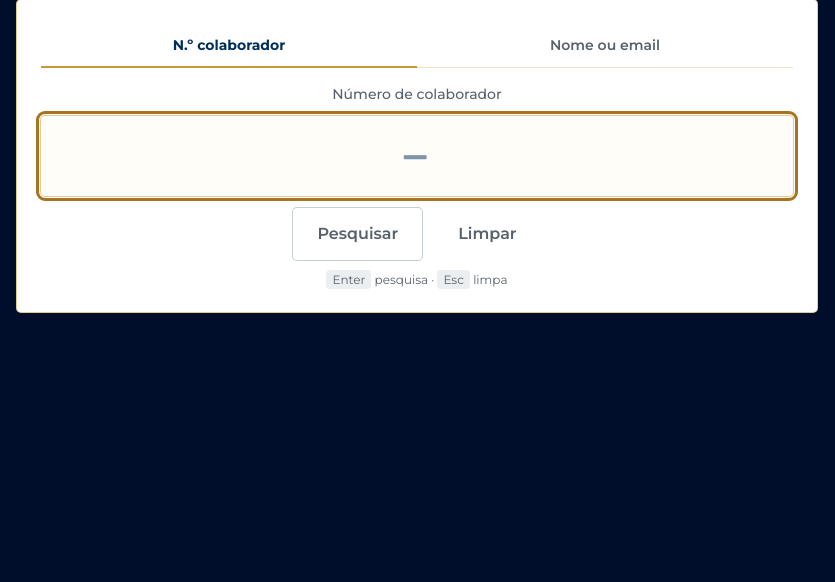
ecrã de distribuição › um nome pesquisado cai no campo Nome
The width and height of the screenshot is (835, 582).
Click the tab "Nome ou email" at point(605, 46), box [417,24,793,68]
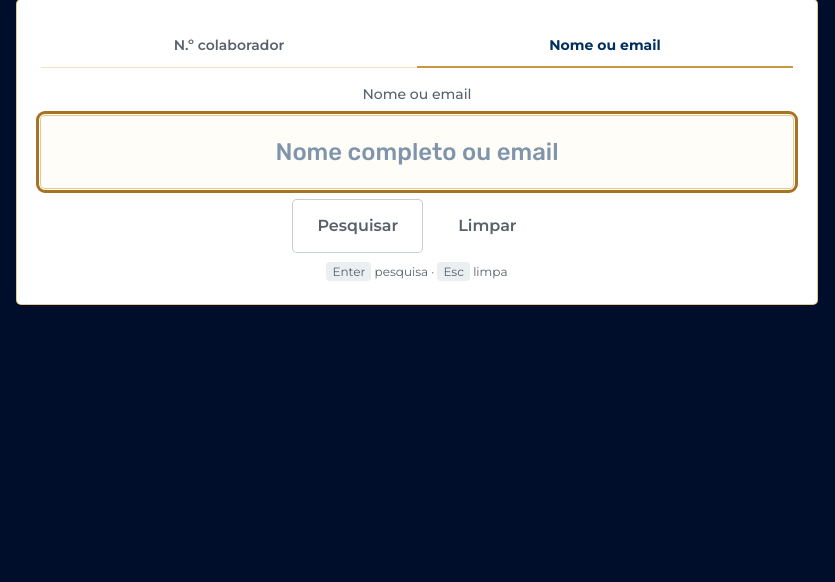
Type keys "Daniela Espanhol{Enter}"
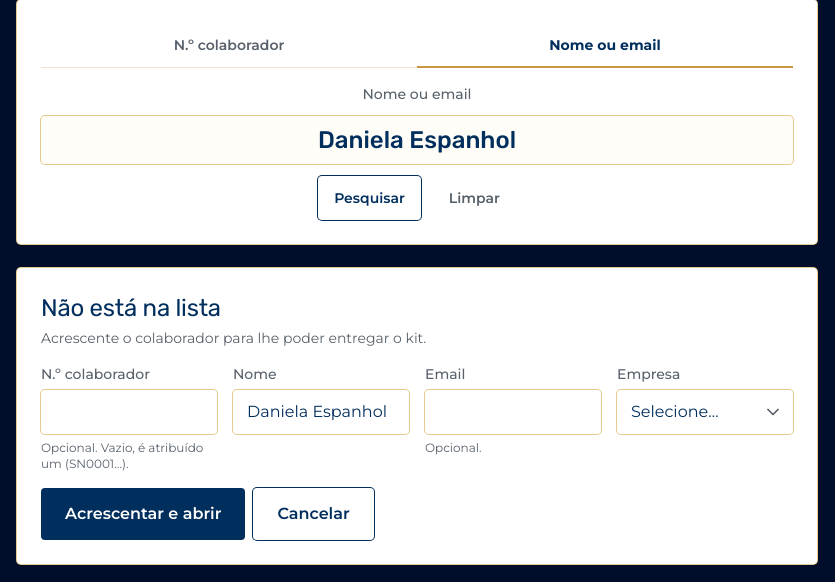
Expected: the heading "Não está na lista" is shown, [41,294,221,322]
Expected: the field labelled "Nome" holds "Daniela Espanhol", [233,390,409,434]
Expected: the field labelled "Email" is empty, [425,390,601,434]
